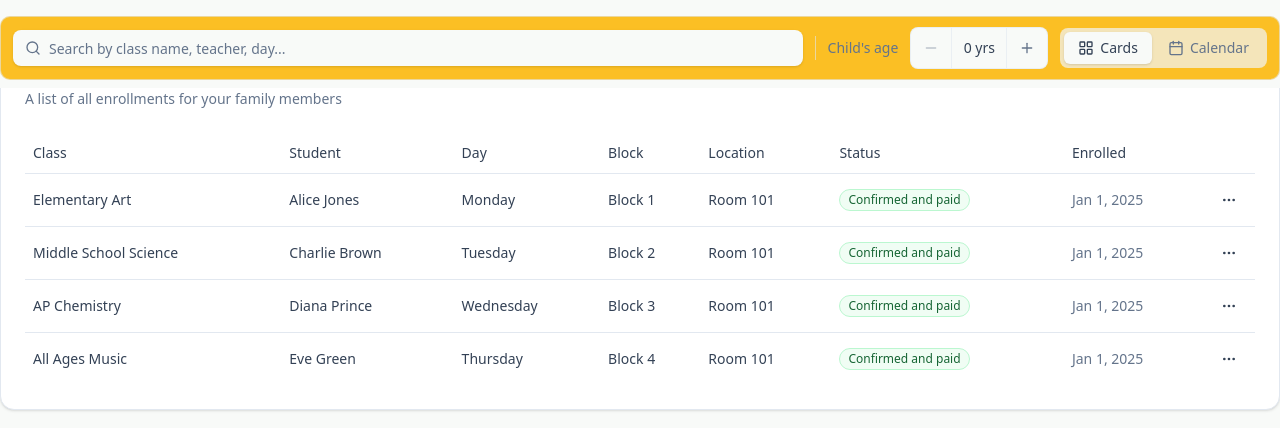
EnrollmentListClient filter bar › search filter › filters by class name
The width and height of the screenshot is (1280, 428).
Type "Elementary" into the field with test id "enrollment-search-input".
click(408, 48); type("Elementary")  # box [13, 30, 803, 66]
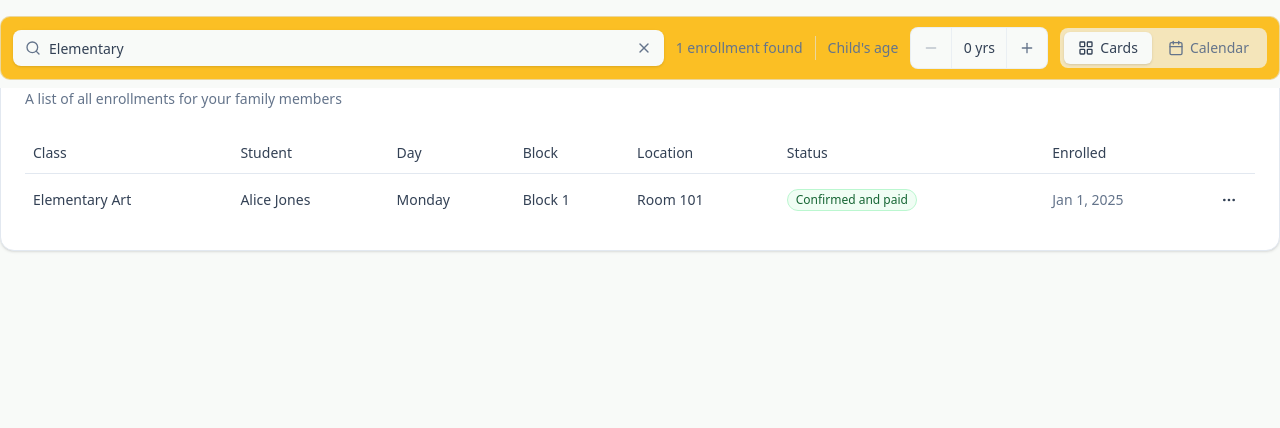
Check: the text "1 enrollment found" is shown, box [676, 38, 802, 58]
